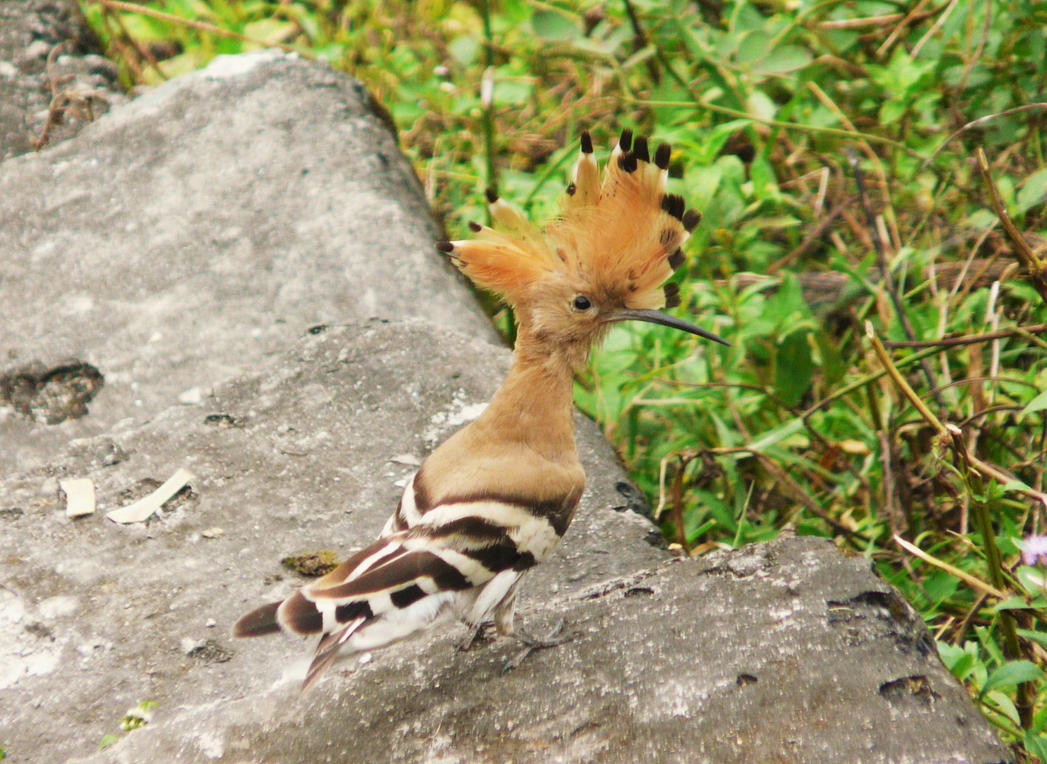bird: (229, 114, 756, 717)
